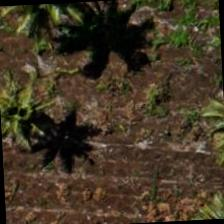Kelapa_Sawit: (0, 69, 72, 163)
